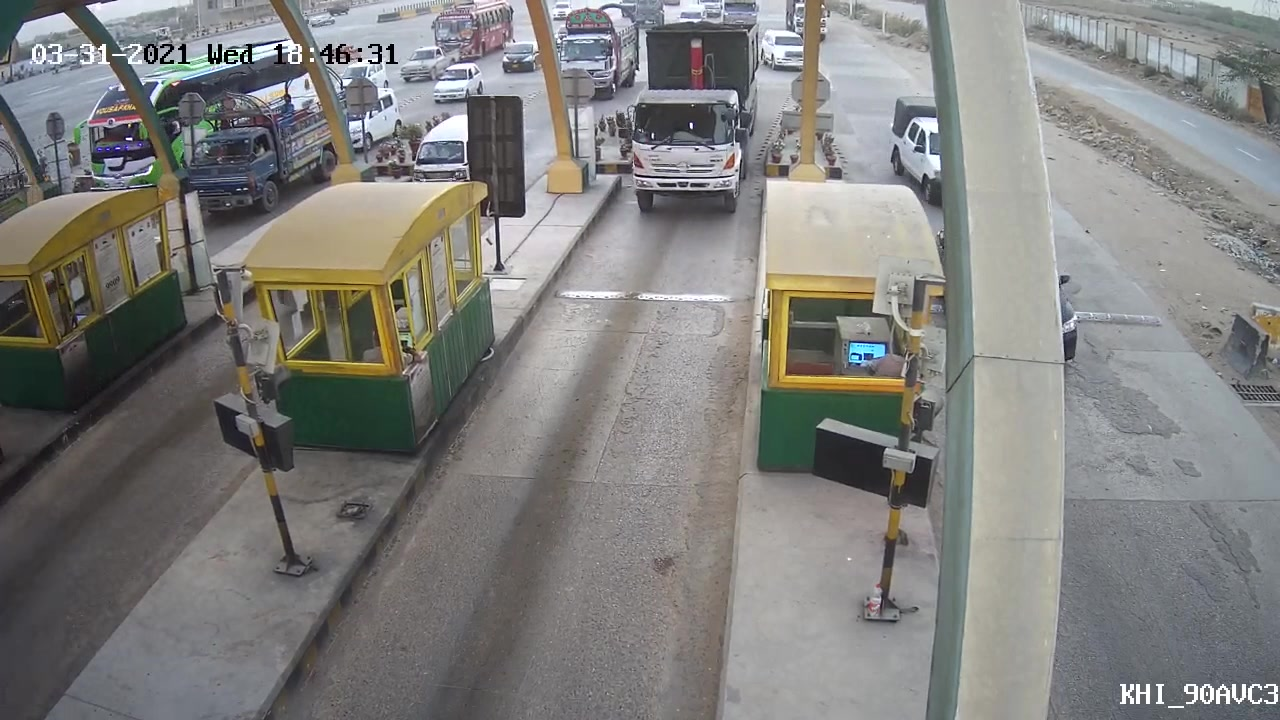F6: (608, 9, 776, 230)
